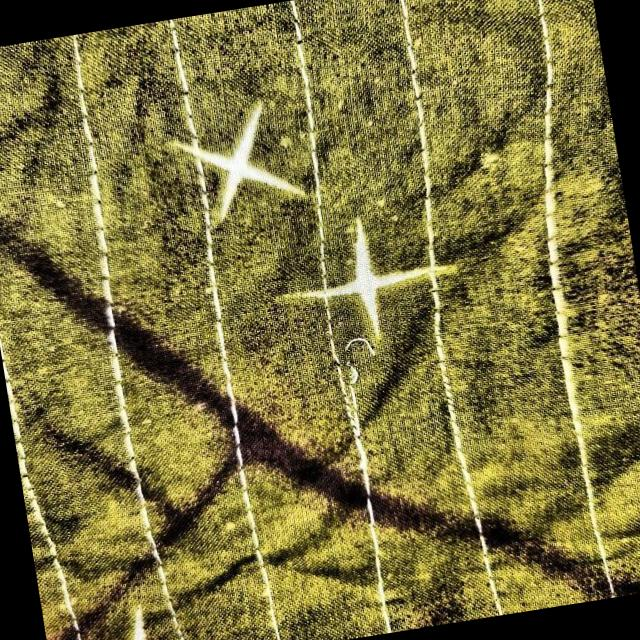gray stitch: (305, 302, 412, 446)
